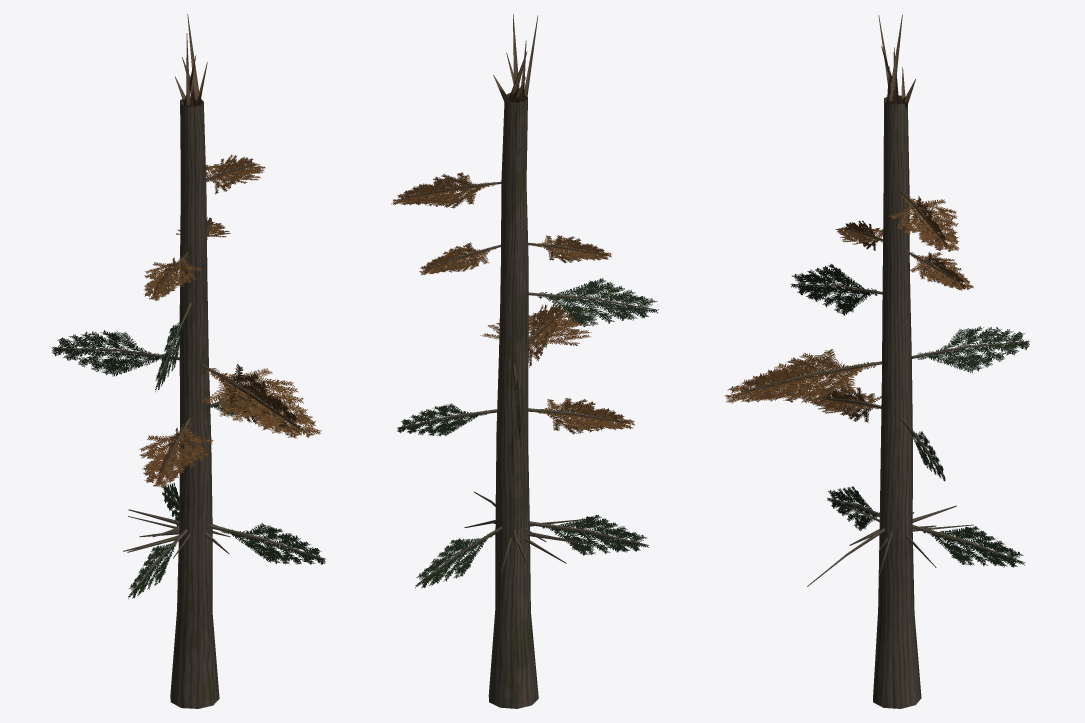
The model's file is S7U_Spruce_Broken_A.fbx.
The picture shows the model from 3 angles, left to right: view 1: azimuth 30°, elevation 25°; view 2: azimuth 150°, elevation 25°; view 3: azimuth 270°, elevation 25°; orthographic projection.
Parts seen in each view (by area): view 1: S7U_Spruce_Broken_A; view 2: S7U_Spruce_Broken_A; view 3: S7U_Spruce_Broken_A.
Boxes of the visible parts, bbox=[...] form: S7U_Spruce_Broken_A: bbox=[52, 14, 325, 708]; S7U_Spruce_Broken_A: bbox=[391, 14, 658, 708]; S7U_Spruce_Broken_A: bbox=[724, 14, 1029, 708].
Size of the model in its own units: 3.21 by 8.46 by 4.02.
